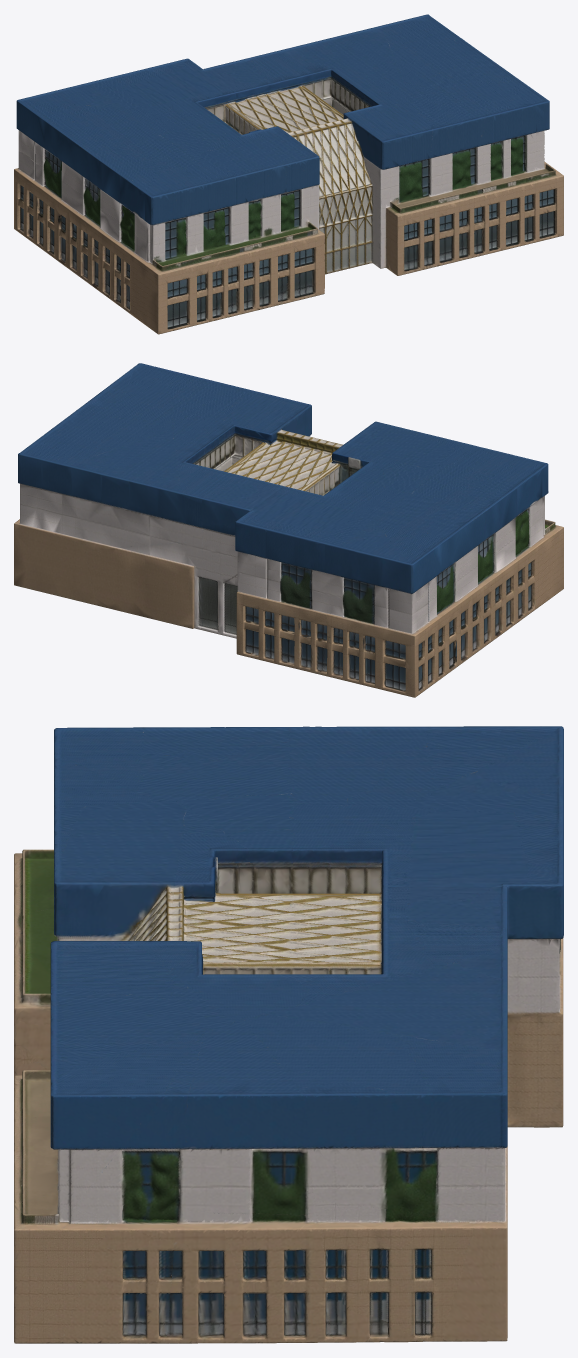
File: bluehall.glb
3 views of the same model, one above another, from view 1: azimuth 30°, elevation 25°; view 2: azimuth 150°, elevation 25°; view 3: azimuth 270°, elevation 25° (orthographic). The views are drawn at different scales.
Visible parts, largest first — view 1: mesh_node; view 2: mesh_node; view 3: mesh_node.
Boxes of the visible parts, x1,y1,x2,y2 form: mesh_node: [14, 14, 563, 334]; mesh_node: [14, 363, 563, 697]; mesh_node: [14, 726, 563, 1343].
Bounding box in the file's own units: 1.9 × 0.5775 × 1.18.
Materials: 1 (1 with a texture image).
